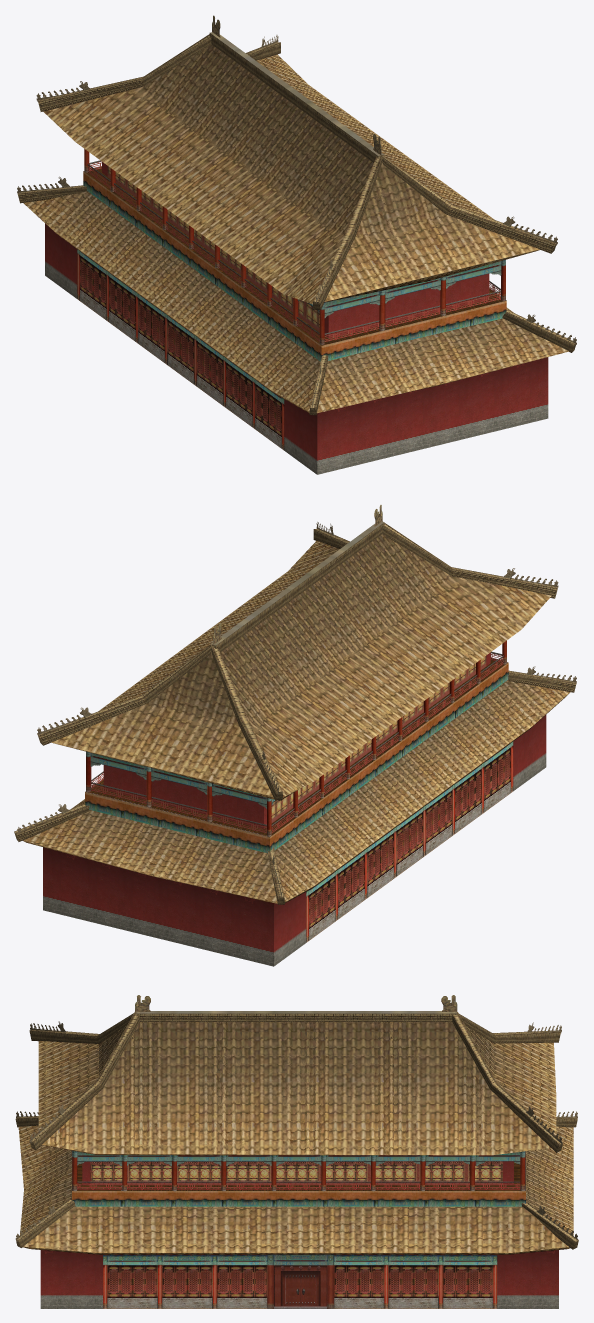
Rendered from cj_pal_side_buil.glb.
The picture shows the model from 3 angles, top to bottom: view 1: azimuth 30°, elevation 25°; view 2: azimuth 150°, elevation 25°; view 3: azimuth 270°, elevation 25°; orthographic projection. The views are drawn at different scales.
Parts seen in each view (by area): view 1: CJ_pal_side_buil_roof01, CJ_pal_side_buil_wall02, CJ_pal_side_buil_wall01, CJ_pal_side_buil_fence_al, CJ_pal_side_buil_floor, CJ_pal_side_buil_pilla, CJ_pal_side_buil_pilla_al, CJ_pal_side_buil_roof03_al; view 2: CJ_pal_side_buil_roof01, CJ_pal_side_buil_wall02, CJ_pal_side_buil_wall01, CJ_pal_side_buil_fence_al, CJ_pal_side_buil_floor, CJ_pal_side_buil_pilla, CJ_pal_side_buil_pilla_al, CJ_pal_side_buil_roof03_al; view 3: CJ_pal_side_buil_roof01, CJ_pal_side_buil_wall01, CJ_pal_side_buil_wall02, CJ_pal_side_buil_floor, CJ_pal_side_buil_pilla_al, CJ_pal_side_buil_fence_al, CJ_pal_side_buil_pilla, CJ_pal_side_buil_roof03_al, CJ_pal_side_buil_roof02_al.
Part boxes in pixels (bbox=[...]): CJ_pal_side_buil_roof01: bbox=[17, 32, 576, 415]; CJ_pal_side_buil_wall02: bbox=[45, 162, 548, 474]; CJ_pal_side_buil_wall01: bbox=[77, 166, 506, 450]; CJ_pal_side_buil_fence_al: bbox=[87, 160, 500, 341]; CJ_pal_side_buil_floor: bbox=[83, 166, 506, 345]; CJ_pal_side_buil_pilla: bbox=[84, 149, 505, 344]; CJ_pal_side_buil_pilla_al: bbox=[297, 261, 501, 318]; CJ_pal_side_buil_roof03_al: bbox=[17, 35, 576, 409]; CJ_pal_side_buil_roof01: bbox=[14, 521, 576, 904]; CJ_pal_side_buil_wall02: bbox=[43, 652, 546, 966]; CJ_pal_side_buil_wall01: bbox=[85, 656, 513, 942]; CJ_pal_side_buil_fence_al: bbox=[91, 651, 503, 833]; CJ_pal_side_buil_floor: bbox=[85, 658, 507, 836]; CJ_pal_side_buil_pilla: bbox=[86, 640, 506, 836]; CJ_pal_side_buil_pilla_al: bbox=[90, 753, 275, 808]; CJ_pal_side_buil_roof03_al: bbox=[17, 522, 576, 899]; CJ_pal_side_buil_roof01: bbox=[15, 1011, 578, 1254]; CJ_pal_side_buil_wall01: bbox=[72, 1161, 525, 1308]; CJ_pal_side_buil_wall02: bbox=[40, 1161, 558, 1308]; CJ_pal_side_buil_floor: bbox=[72, 1151, 525, 1308]; CJ_pal_side_buil_pilla_al: bbox=[77, 1151, 520, 1165]; CJ_pal_side_buil_fence_al: bbox=[77, 1181, 520, 1189]; CJ_pal_side_buil_pilla: bbox=[72, 1150, 525, 1191]; CJ_pal_side_buil_roof03_al: bbox=[16, 1021, 577, 1241]; CJ_pal_side_buil_roof02_al: bbox=[135, 995, 457, 1012].
Size of the model in its own units: 18.39 by 17.68 by 34.94.
Materials: 9 (9 with a texture image).
